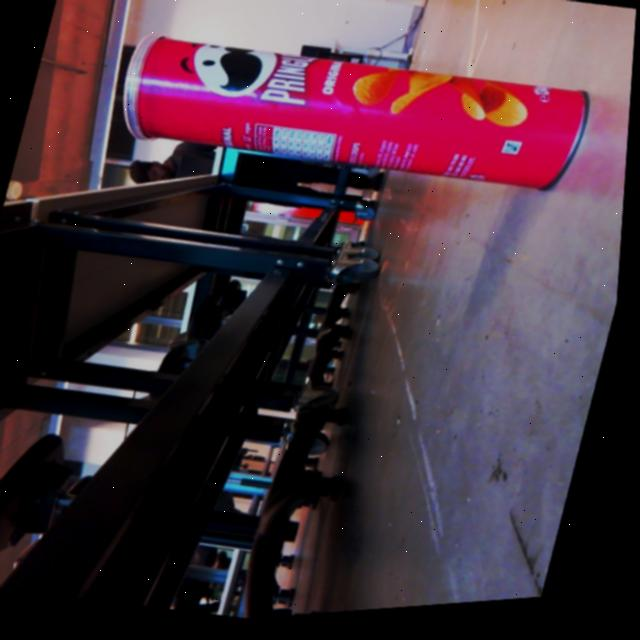redpringles: (91, 0, 609, 252)
